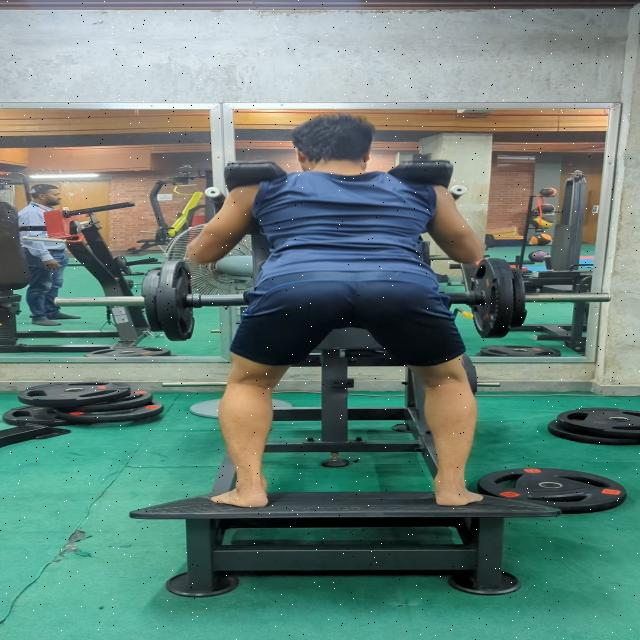Normal_SquatsWithBarbell: (138, 132, 522, 519)
